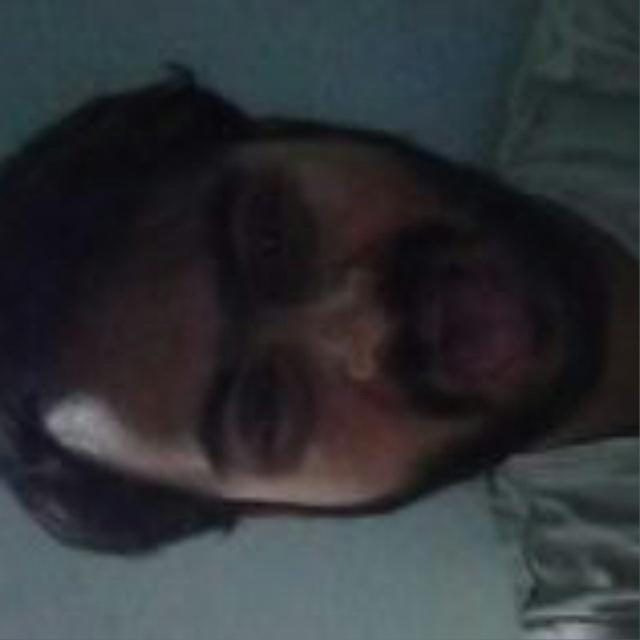Disgust: (97, 72, 618, 587)
